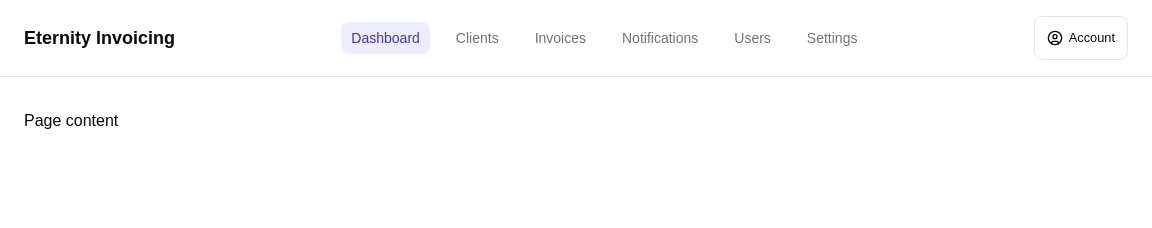
Test: AppShell's BusinessSwitcher › renders the empty state for a single-membership account with no other businesses
Click the button "Account".
click(1081, 38)  # box [1034,16,1128,60]
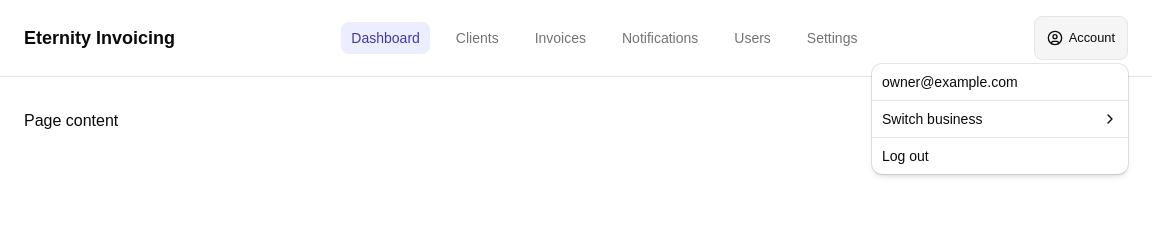
Click the menu item "Switch business".
click(932, 119)  # box [882,111,1118,127]
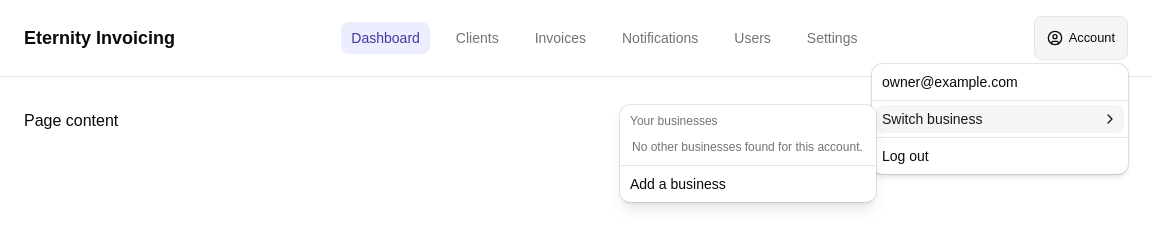
Now the text "No other businesses found for this account." is shown, box [632,140,863,154]
